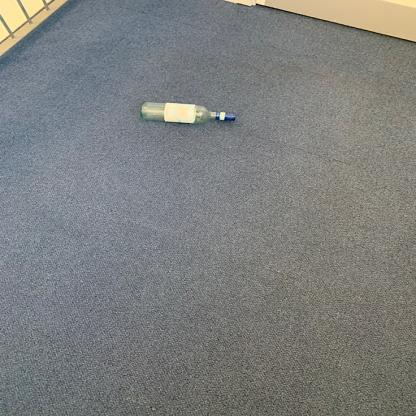trash: (132, 101, 243, 126)
